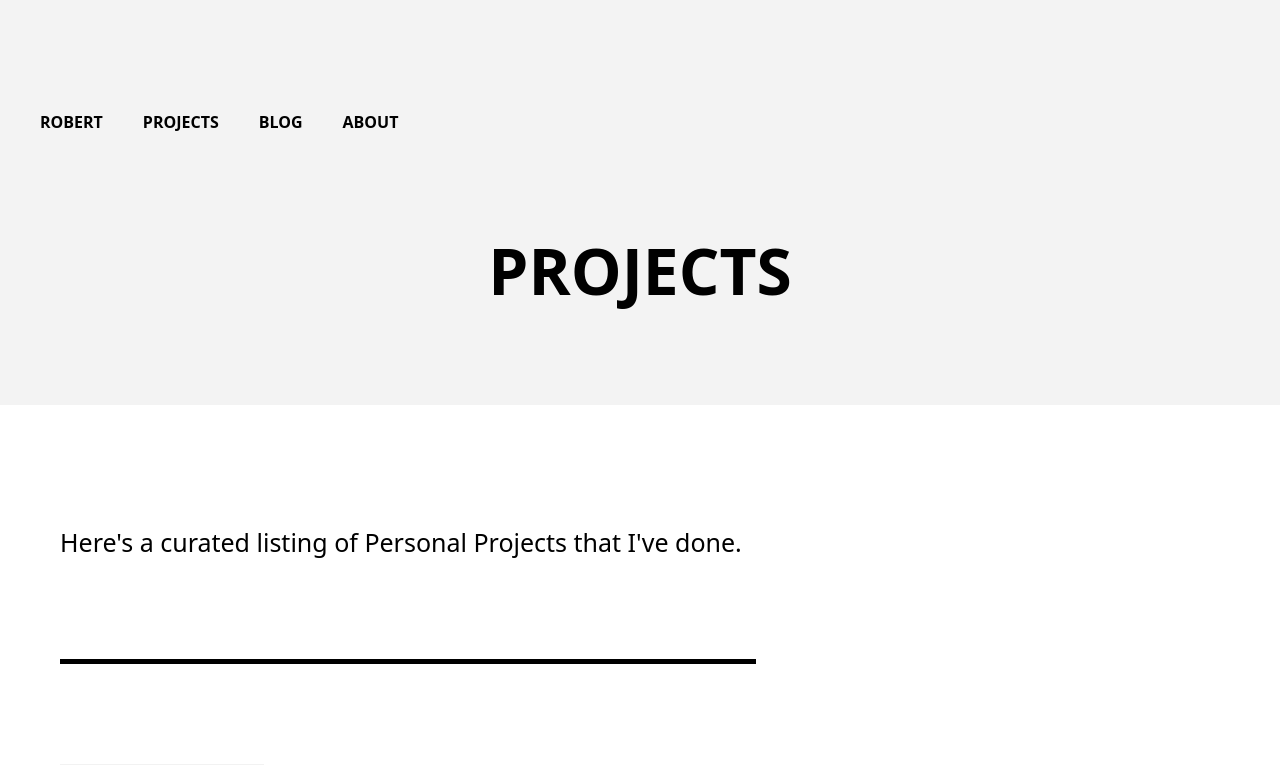
Router › about page should load
The image size is (1280, 765).
Click the link "About".
click(370, 123)  # box [342,111,398,135]
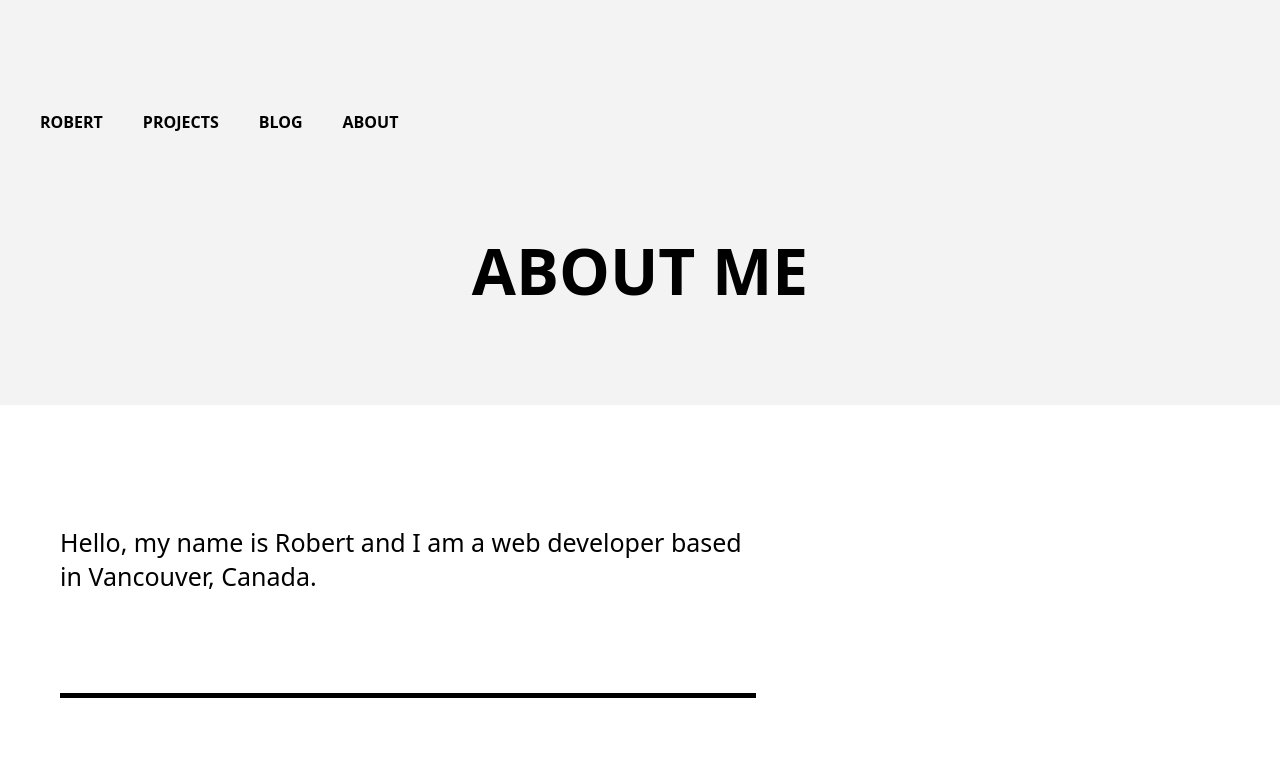
expect the text "Here's a curated listing of Personal Projects that I've done." is gone: met
expect the text "Hello, my name is Robert and I am a web developer based in Vancouver, Canada." is shown: met, box [60,425,756,698]
